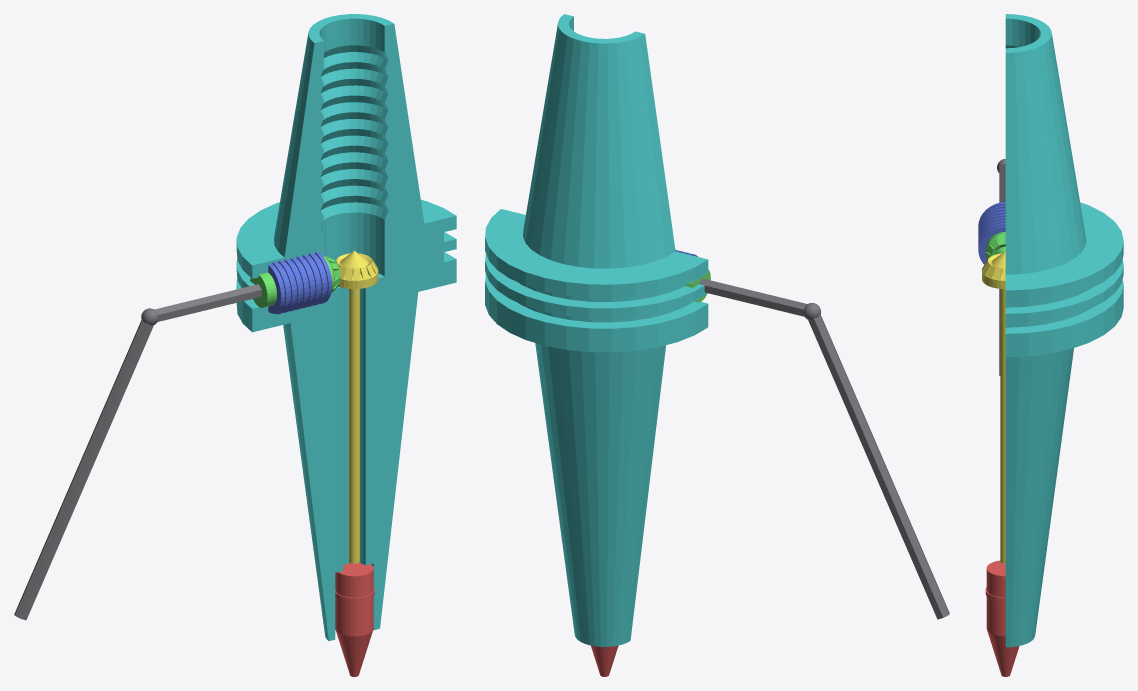
The model's file is tool-holder.glb.
3 views of the same model, side by side, from view 1: azimuth 30°, elevation 25°; view 2: azimuth 150°, elevation 25°; view 3: azimuth 270°, elevation 25° (orthographic).
Parts seen in each view (by area): view 1: holder_body, hex_key, bevel_drive_yellow, tool_insert_red, threaded_sleeve_blue, pinion_screw_green; view 2: holder_body, hex_key; view 3: holder_body, bevel_drive_yellow, tool_insert_red, threaded_sleeve_blue, hex_key, pinion_screw_green.
Part boxes in pixels (box(x1,y1,x2,y2)): holder_body: box(236, 14, 456, 640); hex_key: box(14, 284, 261, 620); bevel_drive_yellow: box(335, 251, 378, 563); tool_insert_red: box(335, 563, 374, 676); threaded_sleeve_blue: box(268, 251, 332, 314); pinion_screw_green: box(250, 256, 340, 307); holder_body: box(485, 14, 708, 646); hex_key: box(699, 278, 949, 619); holder_body: box(1005, 14, 1123, 647); bevel_drive_yellow: box(982, 251, 1005, 563); tool_insert_red: box(985, 560, 1019, 676); threaded_sleeve_blue: box(978, 202, 1005, 264); hex_key: box(997, 159, 1005, 375); pinion_screw_green: box(985, 232, 1005, 259).
Bounding box in the file's own units: 0.1384 × 0.192 × 0.0395.
